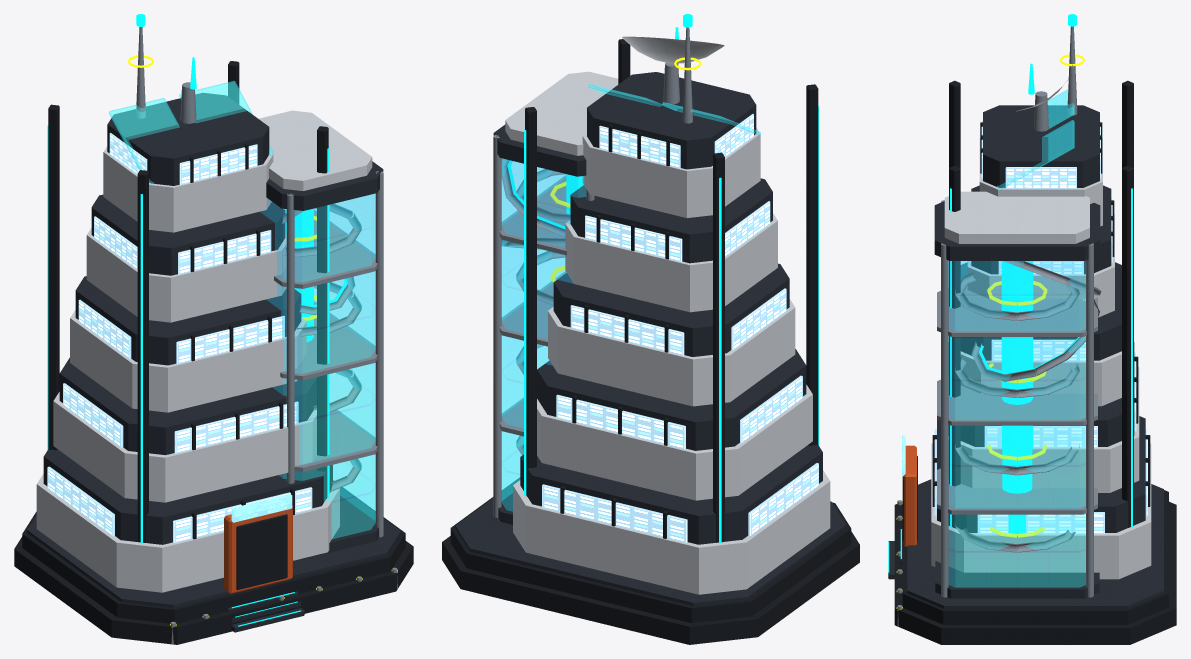
The model's file is bldg_15_r1_04.glb.
The picture shows the model from 3 angles, left to right: view 1: azimuth 30°, elevation 25°; view 2: azimuth 150°, elevation 25°; view 3: azimuth 270°, elevation 25°; orthographic projection. The views are drawn at different scales.
Visible parts, largest first — view 1: Bldg15_C04_aero_white, Bldg15_C04_carbon_slate, Bldg15_C04_gunmetal, Bldg15_C04_glass_cyan, Bldg15_C04_steel_machined, Bldg15_C04_window_lit, Bldg15_C04_led_cyan, Bldg15_C04_accent_orange, Bldg15_C04_marquee; view 2: Bldg15_C04_aero_white, Bldg15_C04_carbon_slate, Bldg15_C04_gunmetal, Bldg15_C04_window_lit, Bldg15_C04_glass_cyan, Bldg15_C04_steel_machined, Bldg15_C04_led_cyan; view 3: Bldg15_C04_glass_cyan, Bldg15_C04_carbon_slate, Bldg15_C04_aero_white, Bldg15_C04_steel_machined, Bldg15_C04_gunmetal, Bldg15_C04_window_lit, Bldg15_C04_led_cyan, Bldg15_C04_accent_orange, Bldg15_C04_led_amber.
Part boxes in pixels (x1,y1,x2,y2): Bldg15_C04_aero_white: (36, 110, 372, 592); Bldg15_C04_carbon_slate: (27, 93, 400, 632); Bldg15_C04_gunmetal: (14, 61, 413, 644); Bldg15_C04_glass_cyan: (109, 81, 375, 538); Bldg15_C04_steel_machined: (136, 27, 397, 644); Bldg15_C04_window_lit: (47, 133, 312, 542); Bldg15_C04_led_cyan: (47, 14, 347, 626); Bldg15_C04_accent_orange: (224, 506, 292, 593); Bldg15_C04_marquee: (231, 494, 292, 522); Bldg15_C04_aero_white: (505, 36, 830, 594); Bldg15_C04_carbon_slate: (455, 72, 846, 606); Bldg15_C04_gunmetal: (442, 39, 859, 644); Bldg15_C04_window_lit: (542, 114, 818, 542); Bldg15_C04_glass_cyan: (501, 84, 760, 511); Bldg15_C04_steel_machined: (493, 27, 842, 517); Bldg15_C04_led_cyan: (508, 14, 819, 543); Bldg15_C04_glass_cyan: (948, 89, 1085, 587); Bldg15_C04_carbon_slate: (888, 105, 1163, 608); Bldg15_C04_aero_white: (931, 77, 1151, 579); Bldg15_C04_steel_machined: (897, 26, 1101, 626); Bldg15_C04_gunmetal: (894, 80, 1176, 644); Bldg15_C04_window_lit: (934, 121, 1147, 534); Bldg15_C04_led_cyan: (888, 14, 1132, 572); Bldg15_C04_accent_orange: (903, 445, 916, 546); Bldg15_C04_led_amber: (896, 54, 1085, 610).
Bounding box in the file's own units: 12 × 20.82 × 10.23.
Materials: 10 (10 with a texture image).
